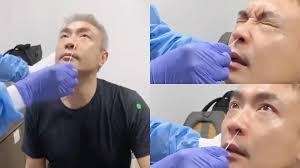Gloves: (150, 41, 233, 84), (16, 62, 81, 109), (150, 144, 234, 168), (1, 53, 31, 89)
without_mask: (224, 1, 294, 83), (223, 96, 281, 168), (56, 26, 100, 75)
